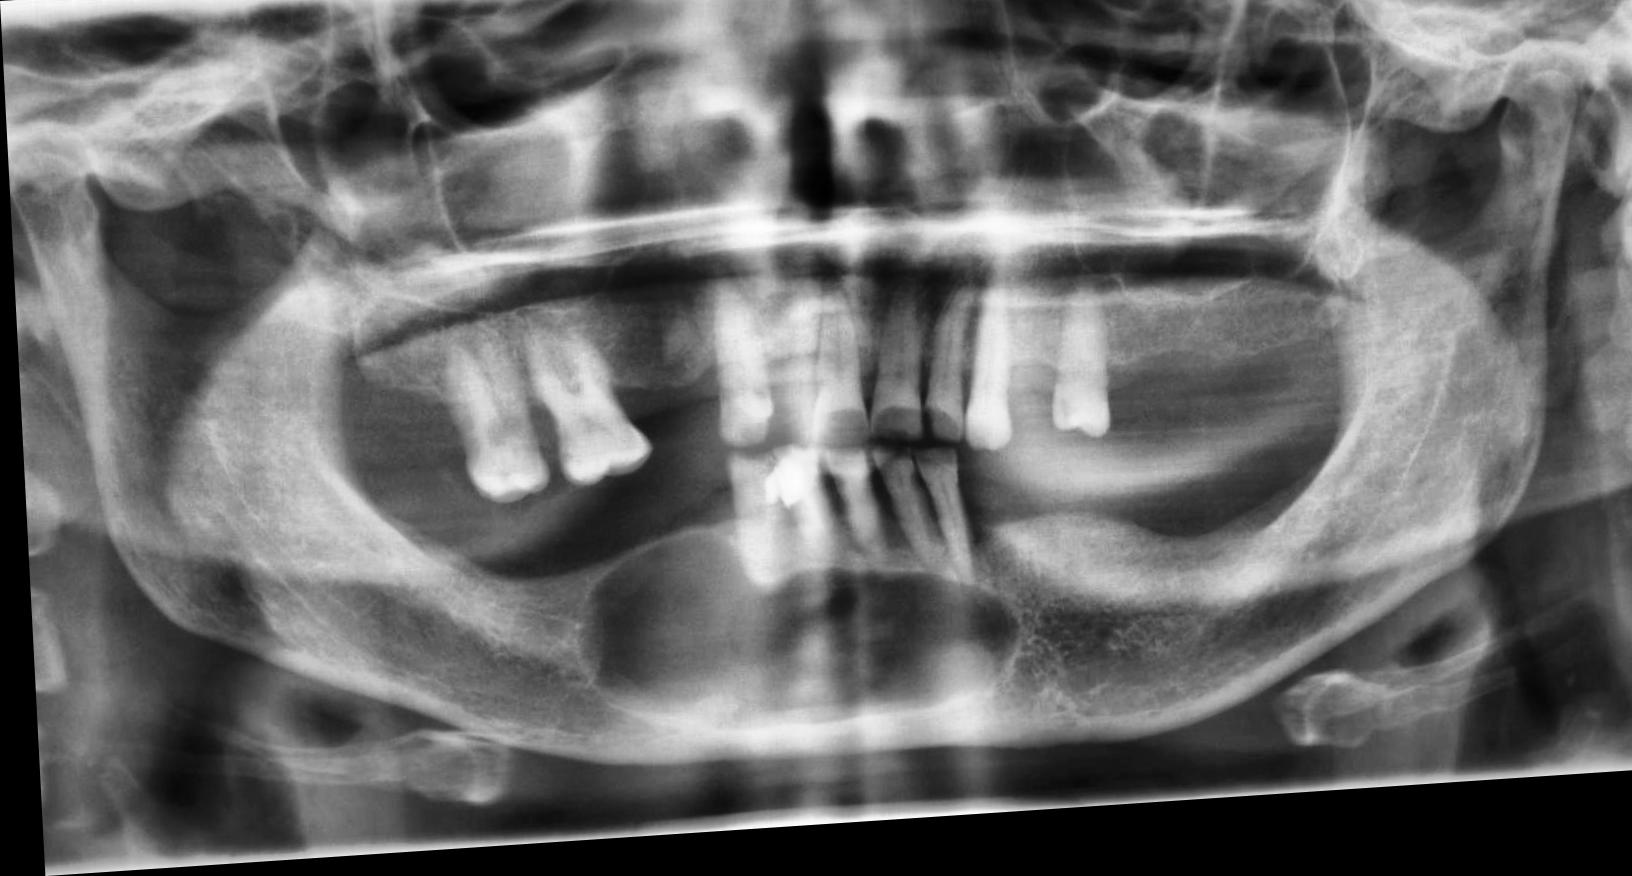okc: (563, 521, 1019, 750)
